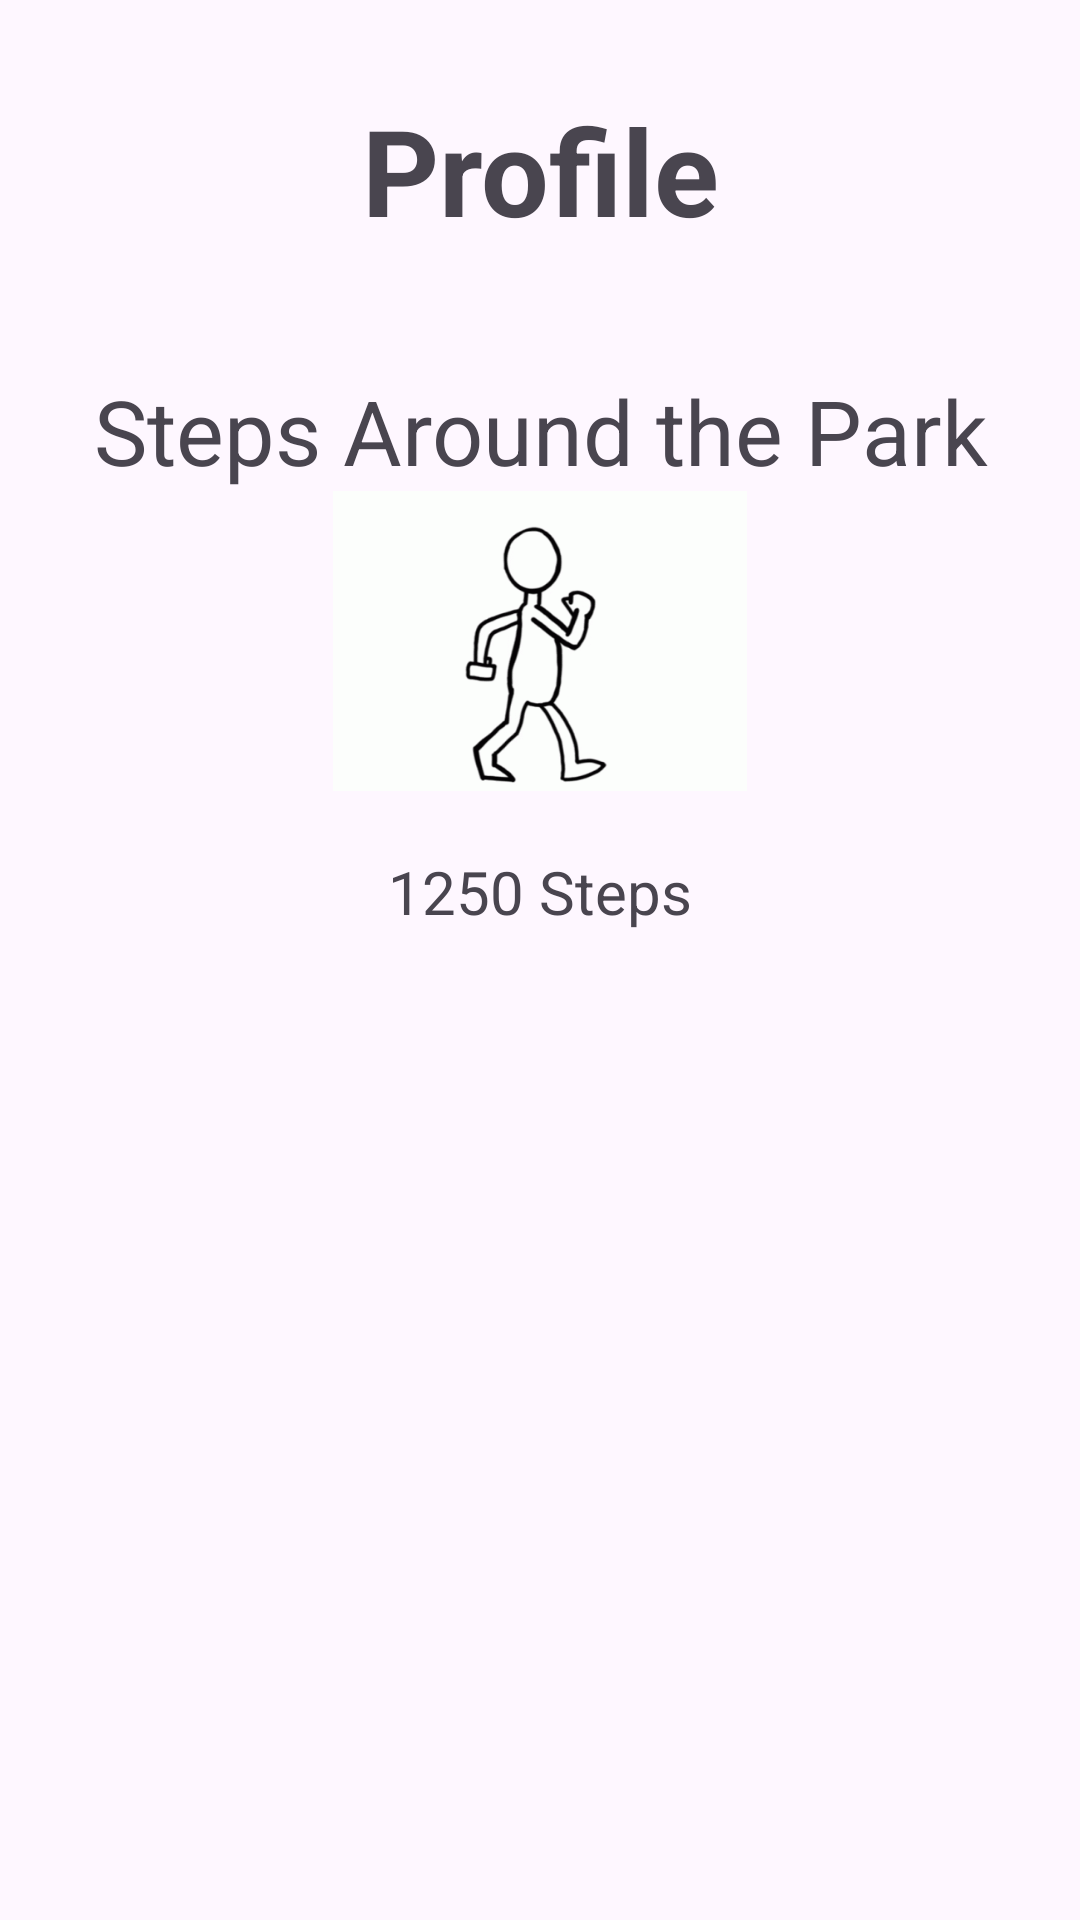

Screen size 1080×1920. Icon name, then its box in pixels as (x1, y1, x2, y2):
step counter gif: (465, 527, 607, 783)
